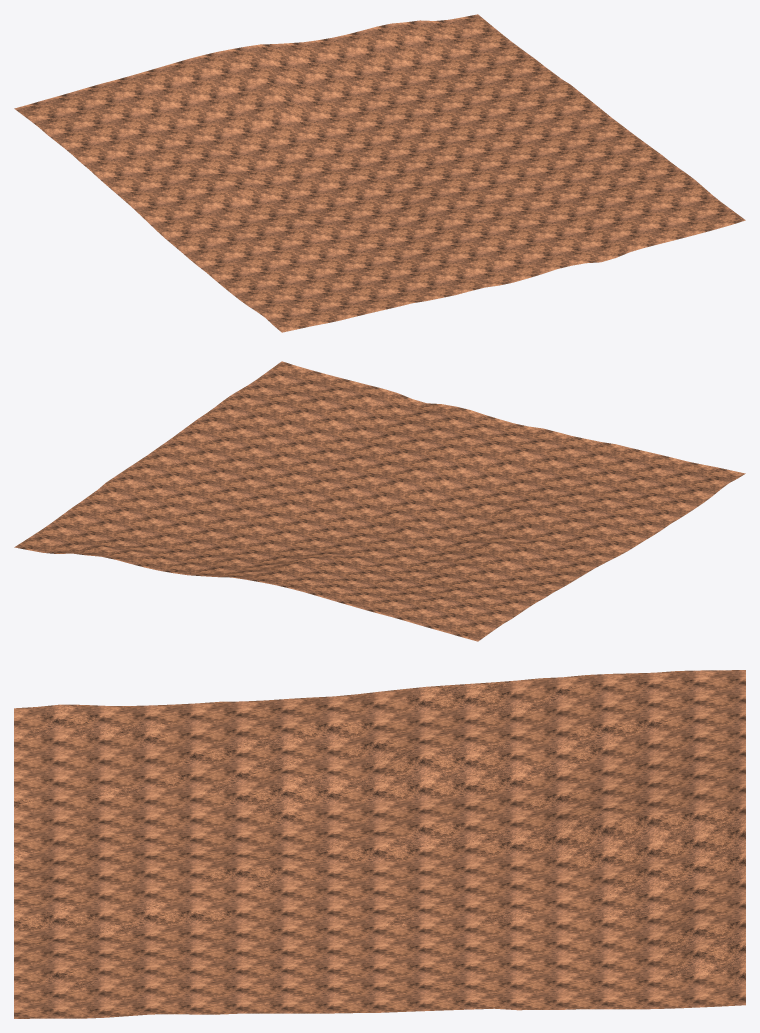
The model's file is terrain_10_16.dae.
3 renders of one model, top to bottom at view 1: azimuth 30°, elevation 25°; view 2: azimuth 150°, elevation 25°; view 3: azimuth 270°, elevation 25°, orthographic. The views are drawn at different scales.
Visible parts, largest first — view 1: terrain_10_16-node; view 2: terrain_10_16-node; view 3: terrain_10_16-node.
Part boxes in pixels (bbox=[...]): terrain_10_16-node: bbox=[14, 14, 745, 332]; terrain_10_16-node: bbox=[14, 361, 745, 641]; terrain_10_16-node: bbox=[14, 670, 745, 1018].
Bounding box in the file's own units: 128 × 128 × 11.28.
Materials: 1 (1 with a texture image).
